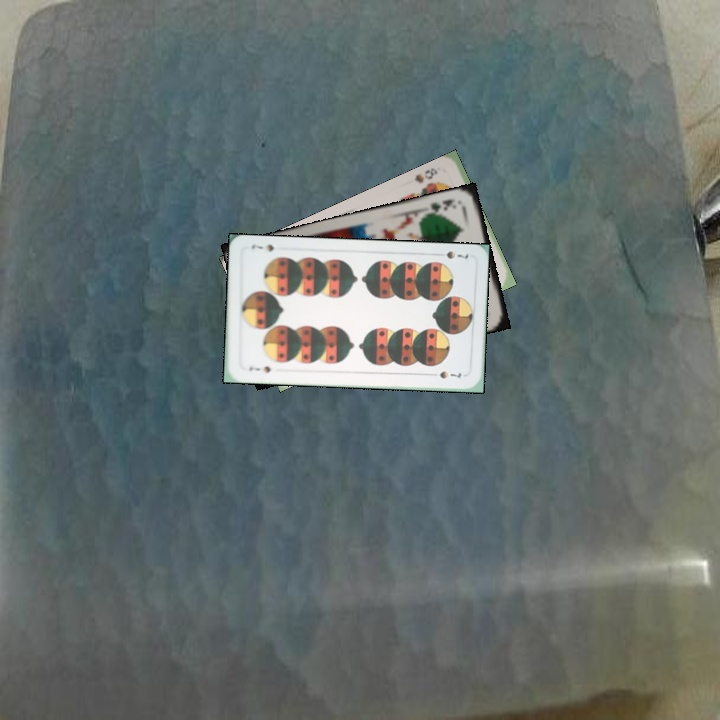GK: (423, 195, 459, 217)
S7: (442, 246, 472, 262), (245, 362, 273, 375)
S8: (410, 164, 440, 186)
